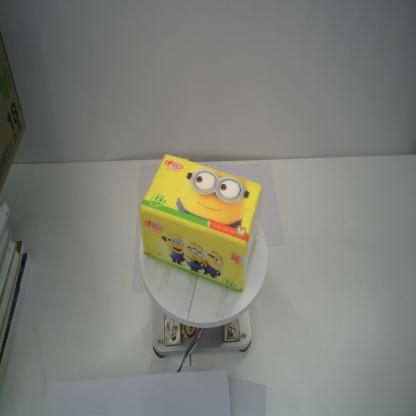Tissue: (139, 153, 264, 293)
